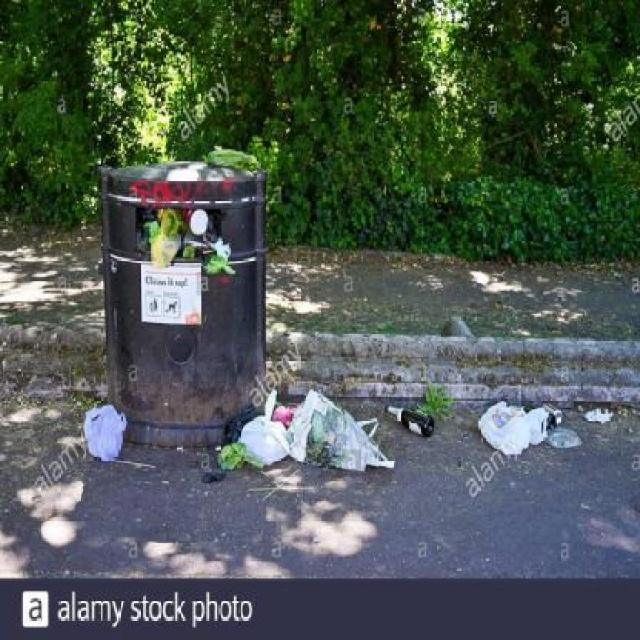garbage: (214, 395, 402, 488), (137, 209, 237, 276), (471, 394, 575, 453), (73, 400, 142, 464), (379, 401, 442, 436), (197, 148, 260, 175)
